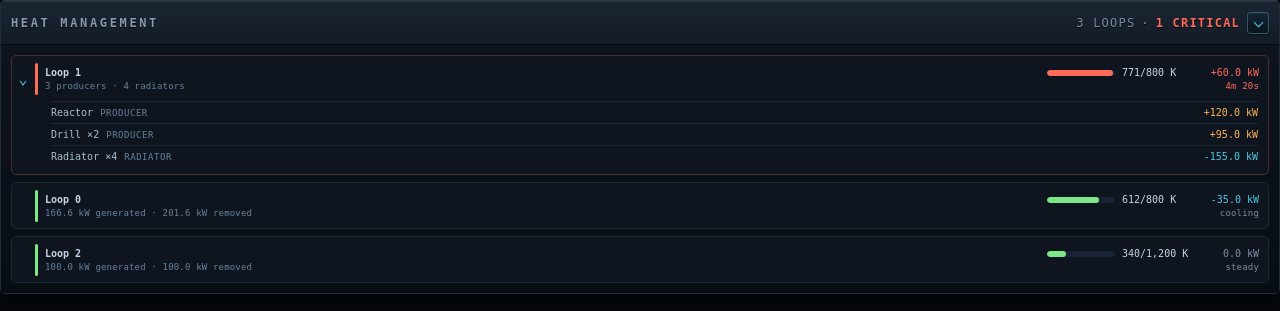
it: HeatPanel › lets an operator collapse and reopen component detail
The width and height of the screenshot is (1280, 311).
Click the button with aria-label "Collapse Loop 1" at x=63, y=72, box [12, 56, 1268, 101]
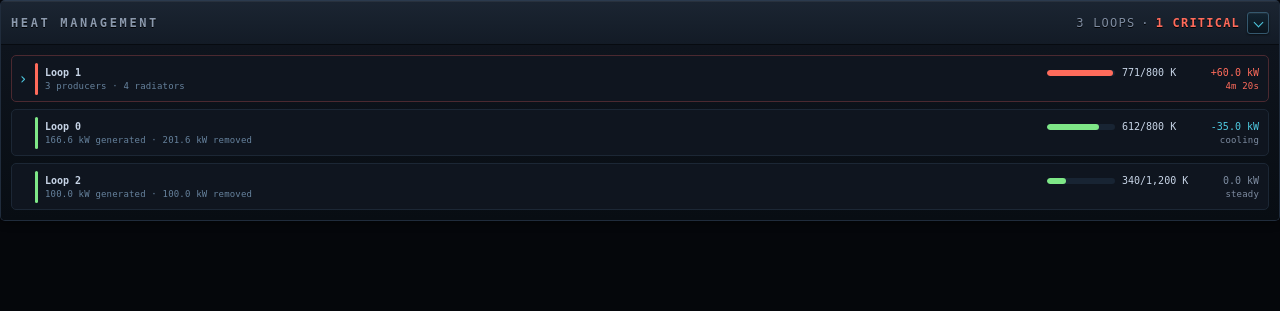
Result: the text "Reactor" is gone
Click the button with aria-label "Expand Loop 1" at x=63, y=72, box [12, 56, 1268, 101]
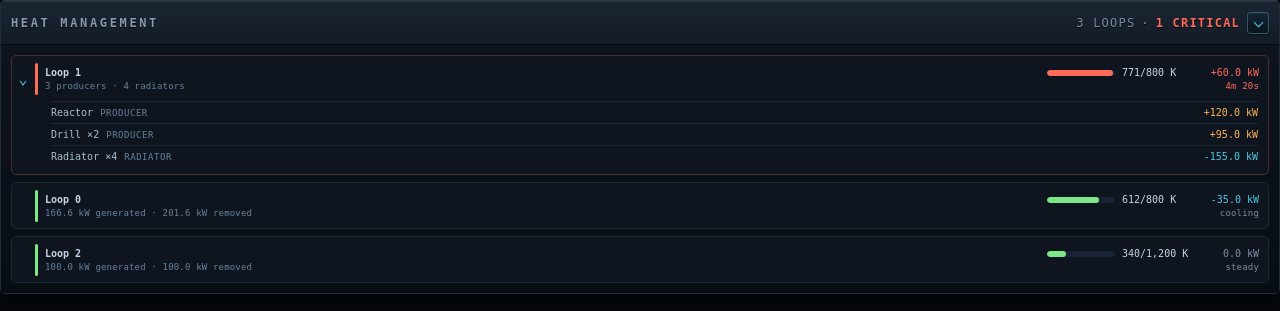
Result: the text "Reactor" is shown at [51, 107, 93, 118]
